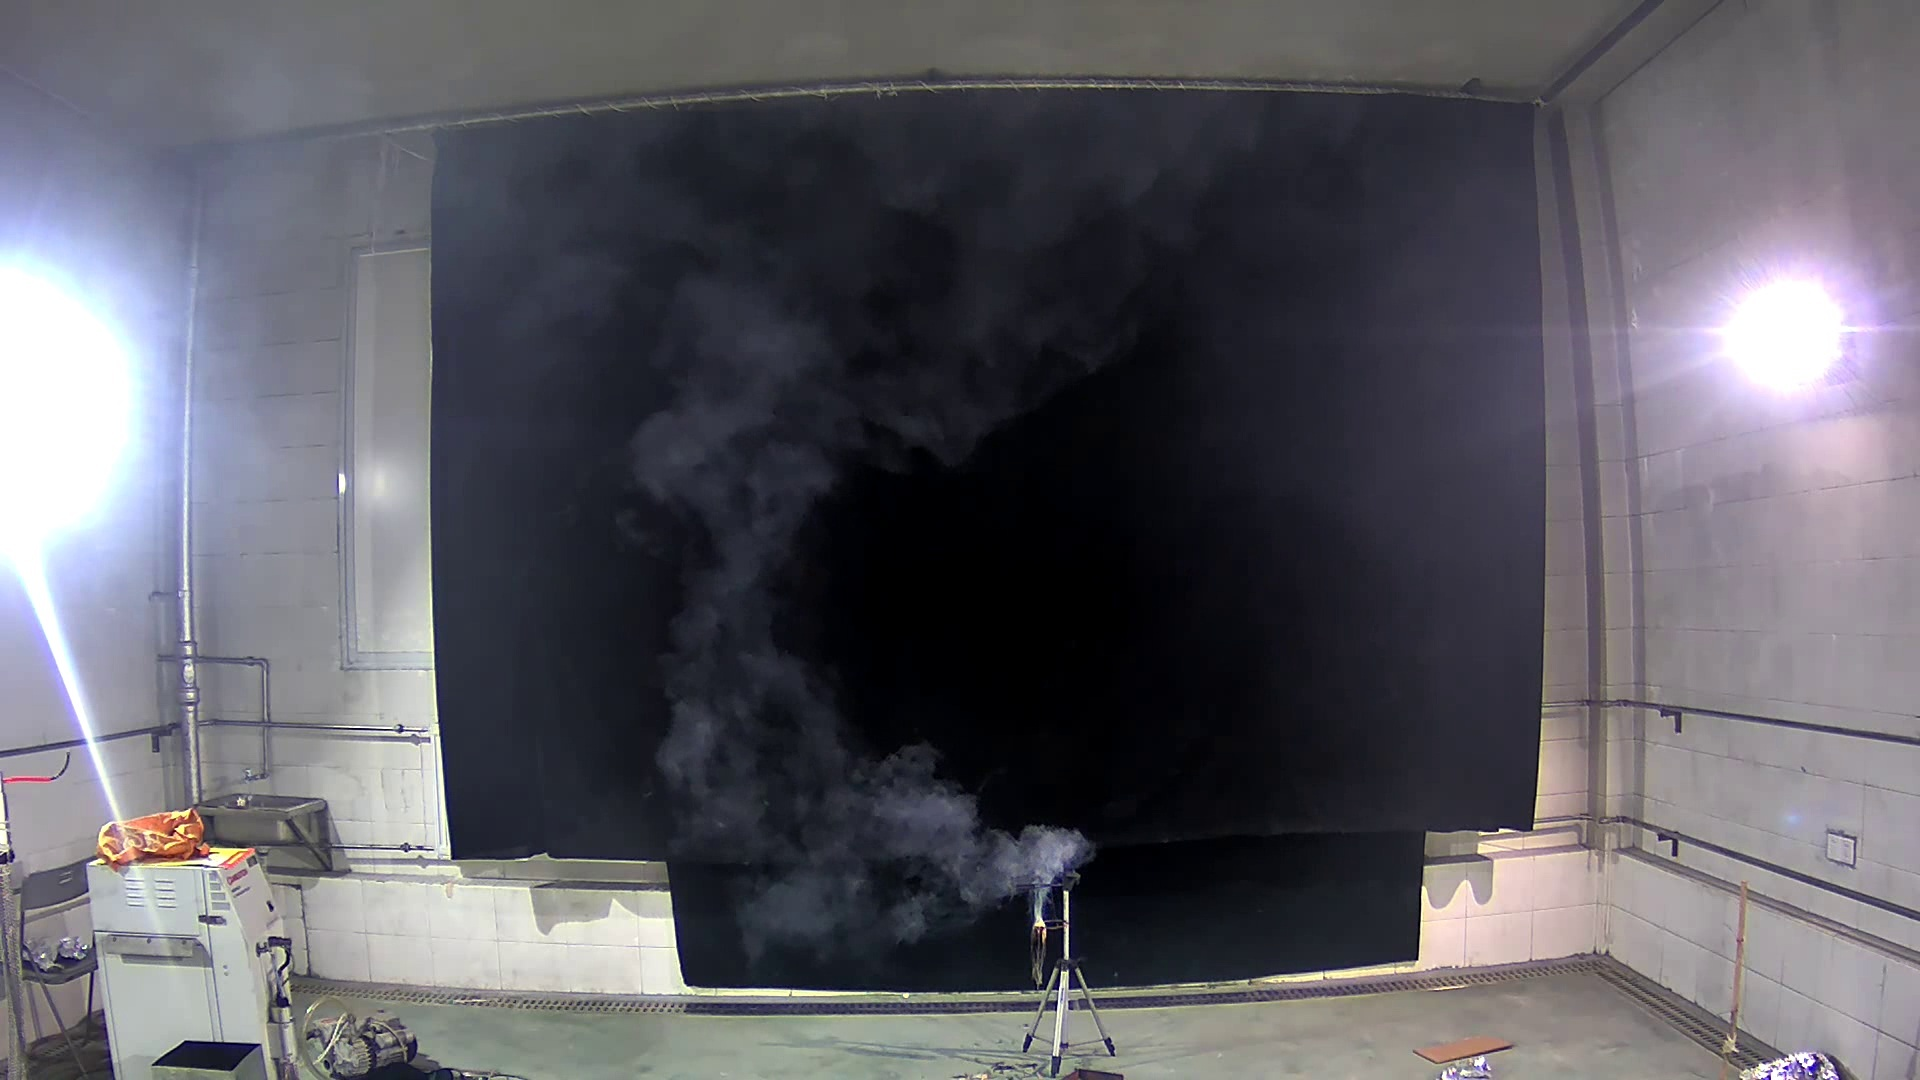smoke: (574, 278, 1088, 945)
